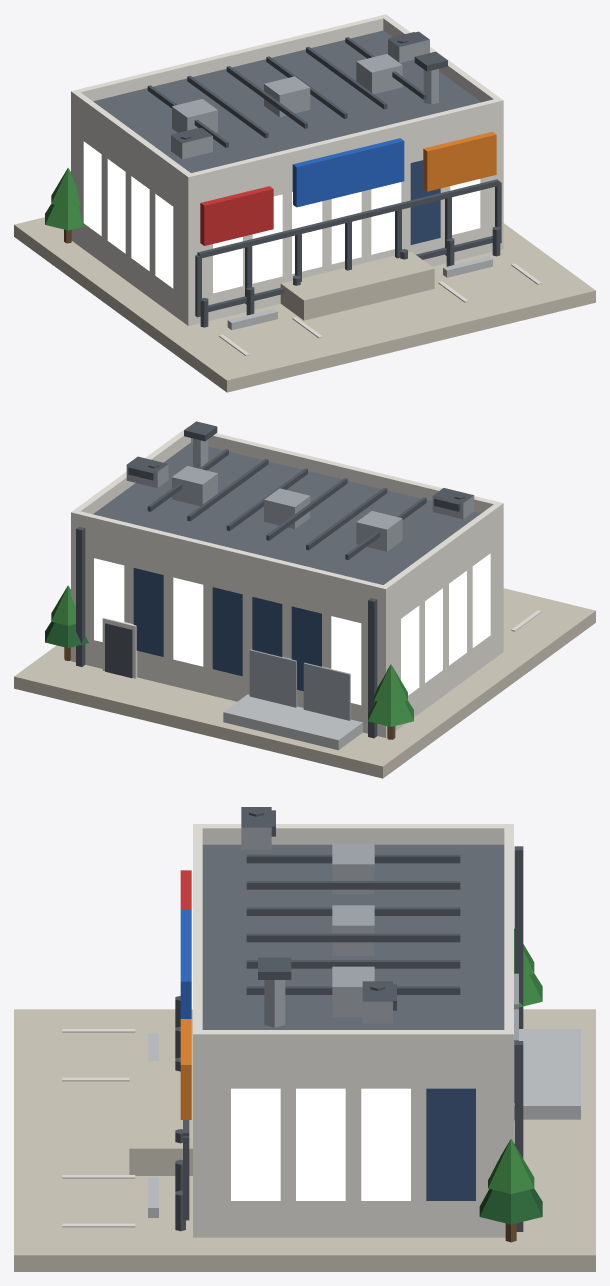
3 renders of one model, top to bottom at view 1: azimuth 30°, elevation 25°; view 2: azimuth 150°, elevation 25°; view 3: azimuth 270°, elevation 25°, orthographic. The views are drawn at different scales.
Parts seen in each view (by area): view 1: b19; view 2: b19; view 3: b19.
Boxes of the visible parts, box(x1,y1,x2,y2) form: b19: box(14, 14, 595, 392); b19: box(14, 421, 595, 778); b19: box(14, 807, 595, 1271).
Bounding box in the file's own units: 0.96 × 0.475 × 0.96.
